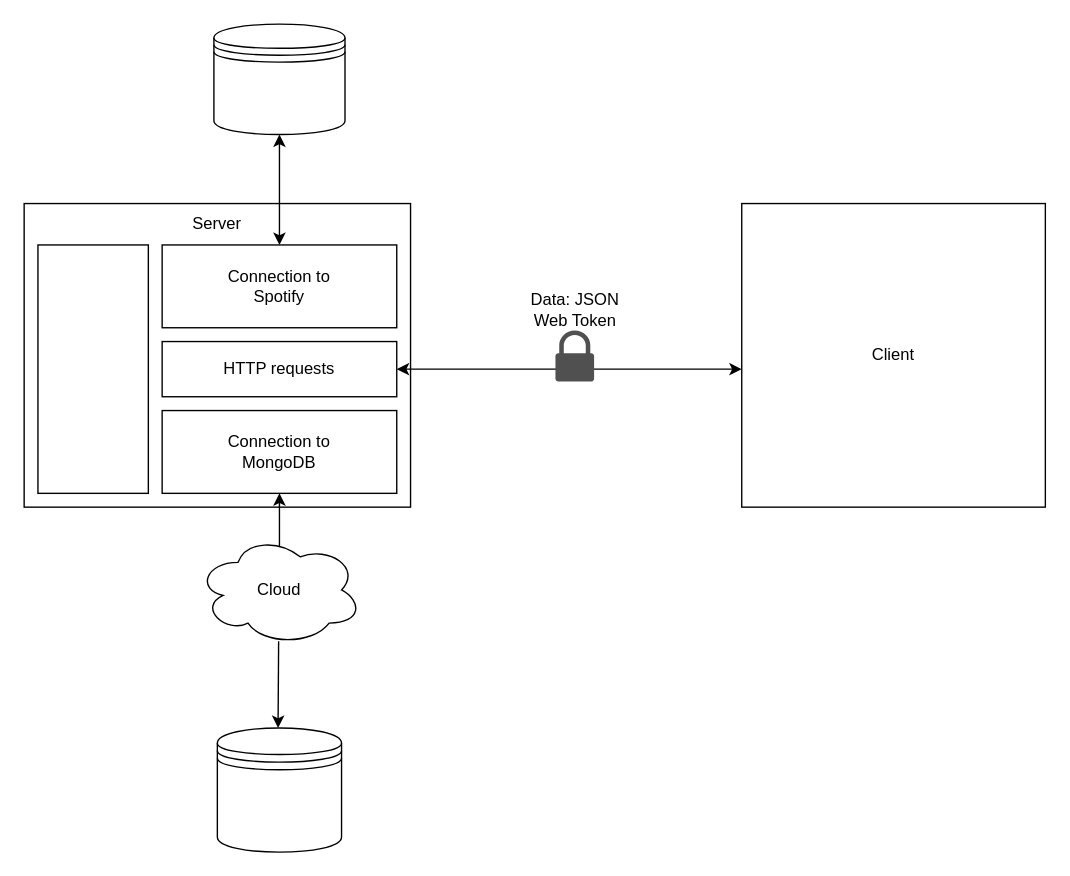
The diagram is 1070 pixels wide and 876 high, and some of its shapes have lost their labels. Here are the shapes that lost their labels. From the top down, the centre of each, then its label:
At point 279,79: "Spotfy DB".
At point 92,368: "ML agent Spotify Analyzer".
At point 279,789: "MongoDB".
